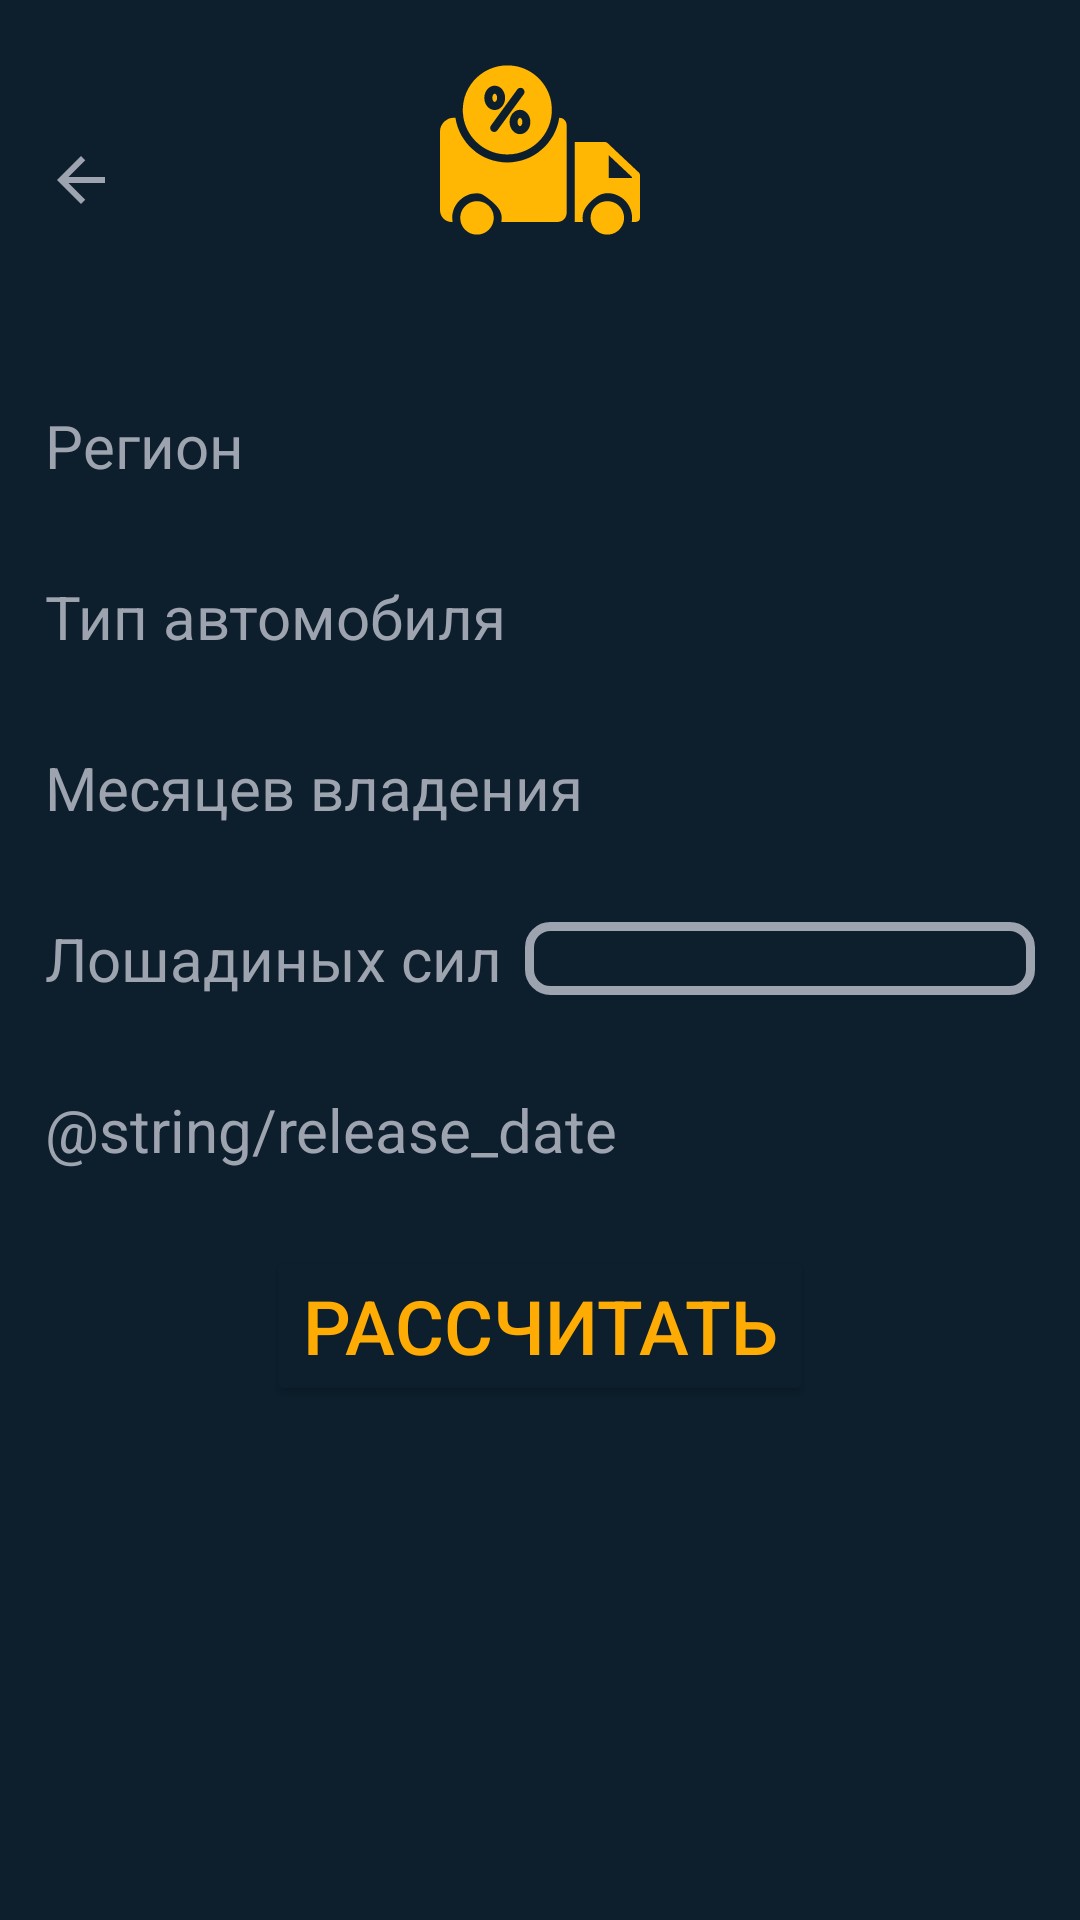

Screen size 1080px×1920px. Icon name, then its center in pixels as [x,y]:
arrow back hovered: [81,180]
